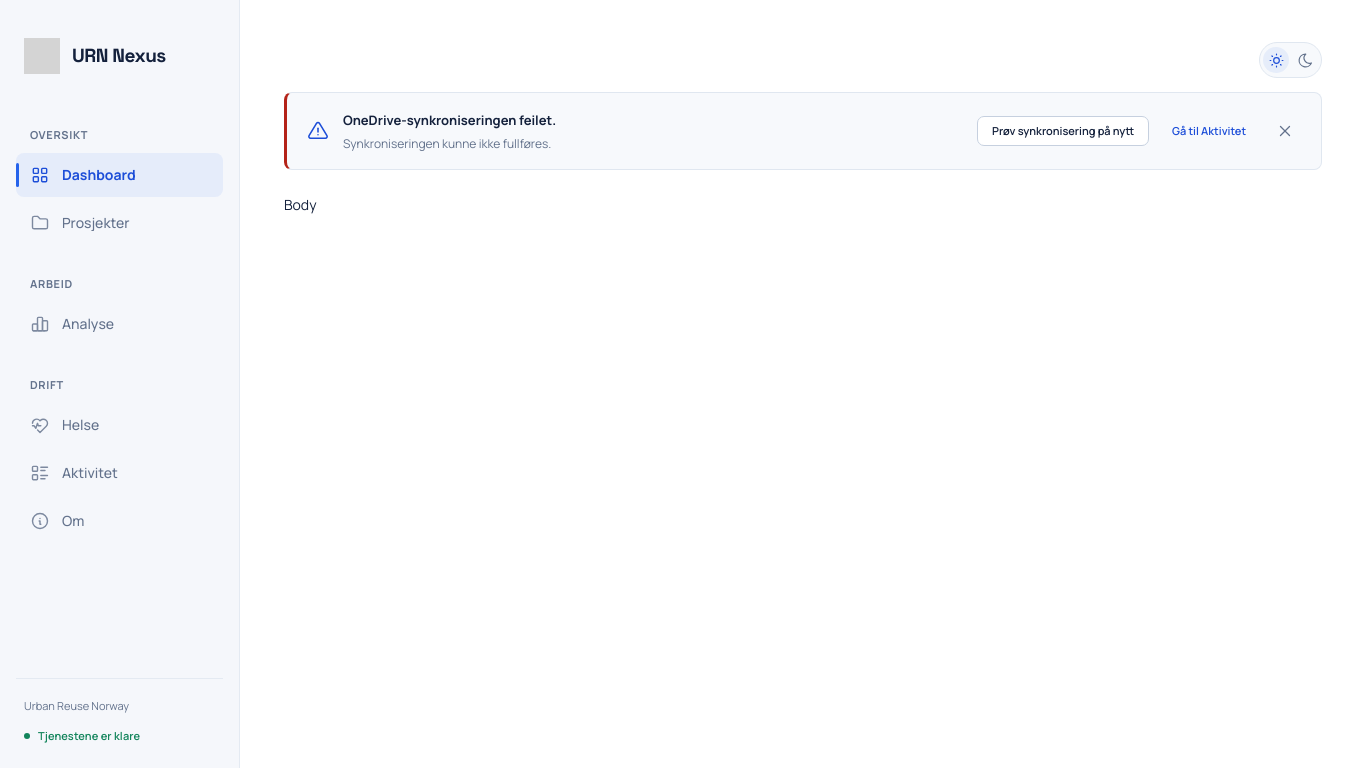
AppDataProvider daily sync › shows the fatal sync modal only for an explicit classified sync failure
The image size is (1366, 768).
Click the button "Prøv synkronisering på nytt": click(1063, 131) 977,116 -> 1149,146
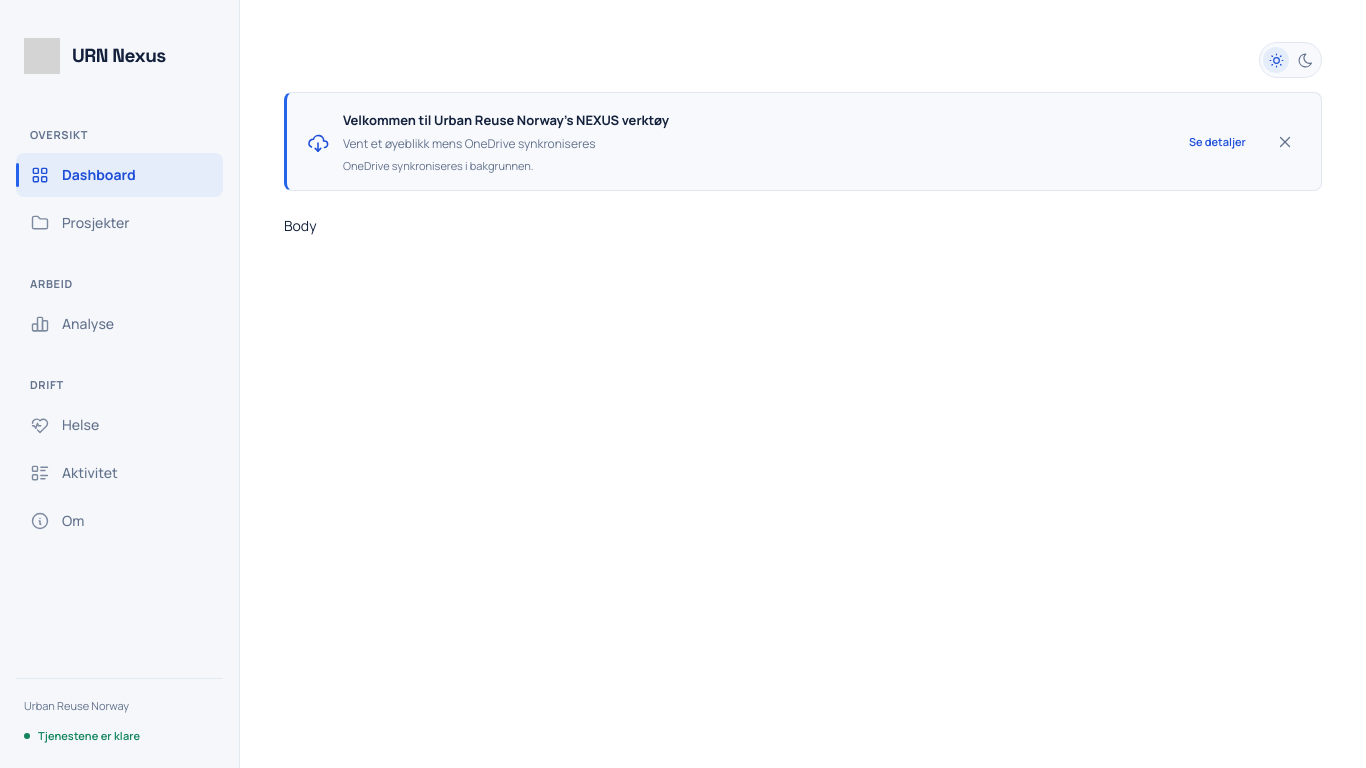
Expected: the text "Velkommen til Urban Reuse Norway's NEXUS verktøy" is shown, 343,111 -> 669,129
